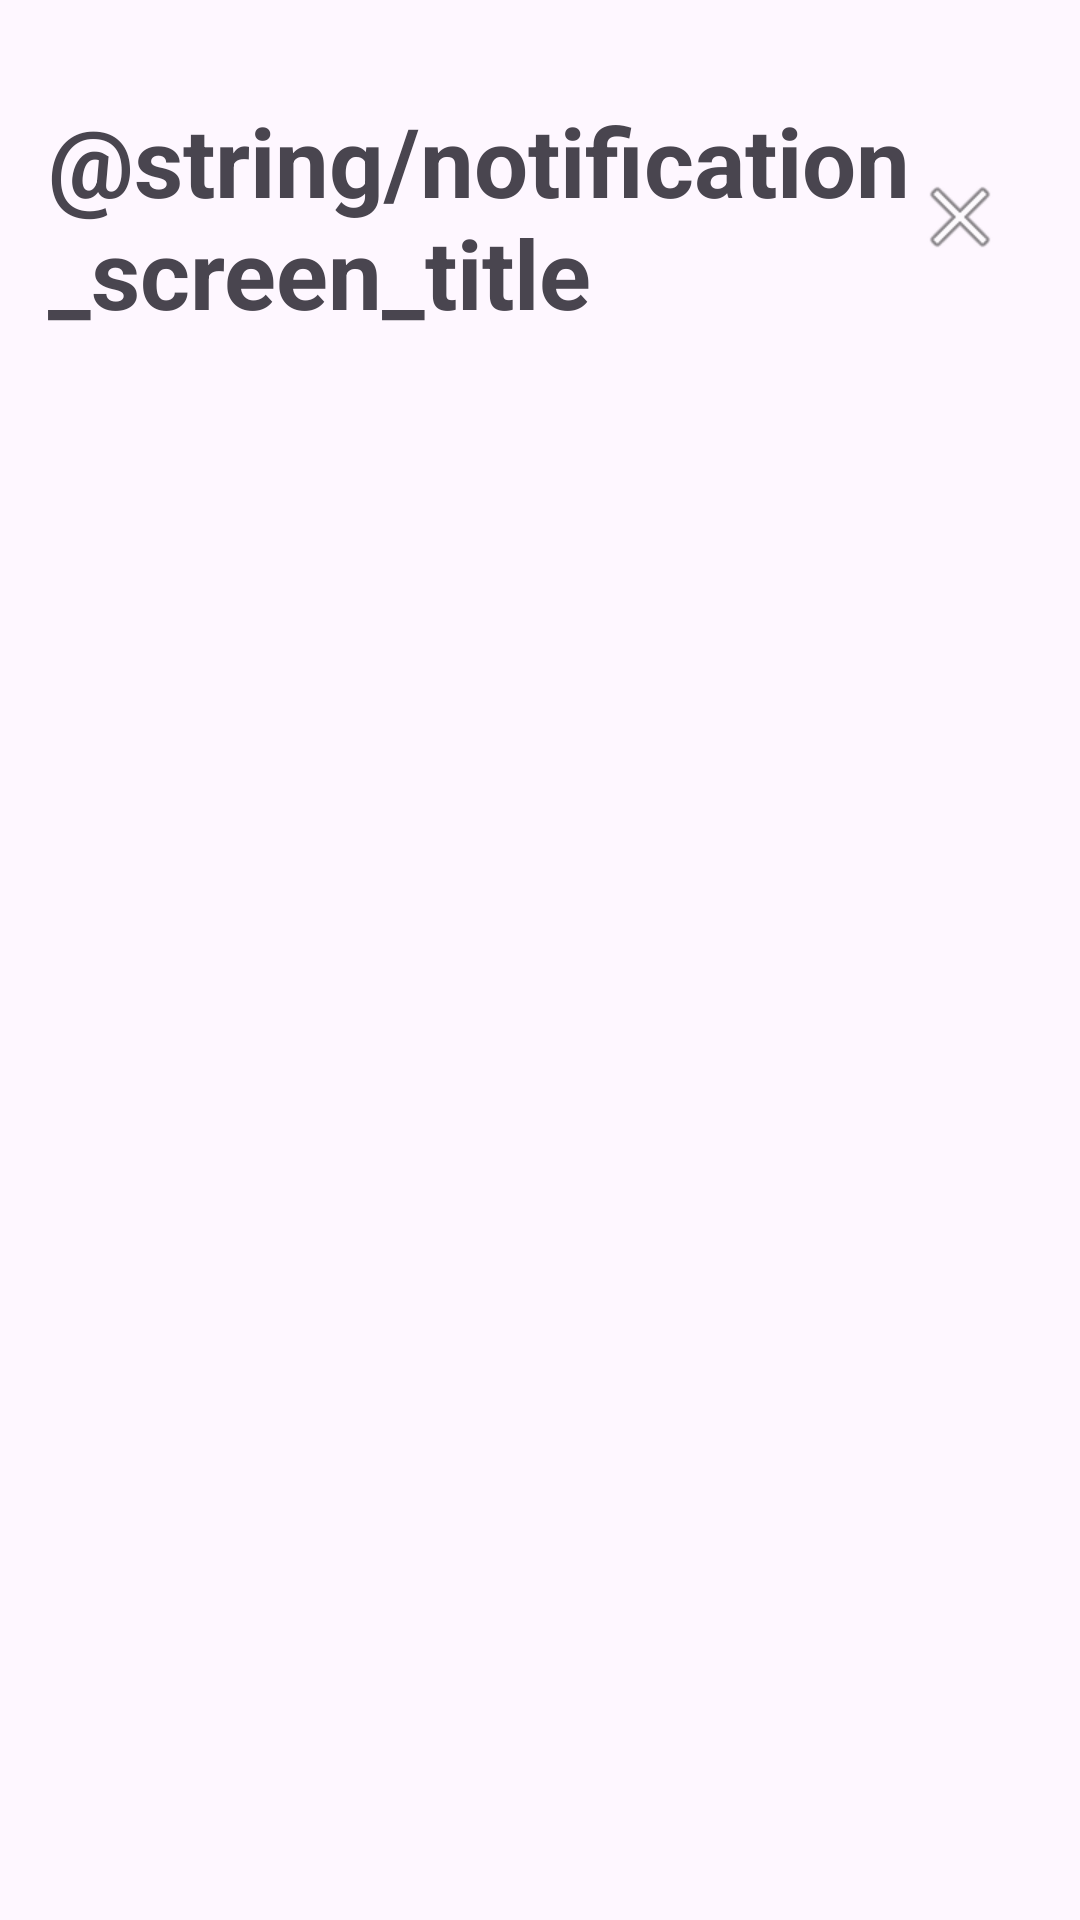

Where icons sit on this 1080*1920 app screen, as (x1, y1, x2, y2):
close clear cancel: (930, 187, 990, 247)
